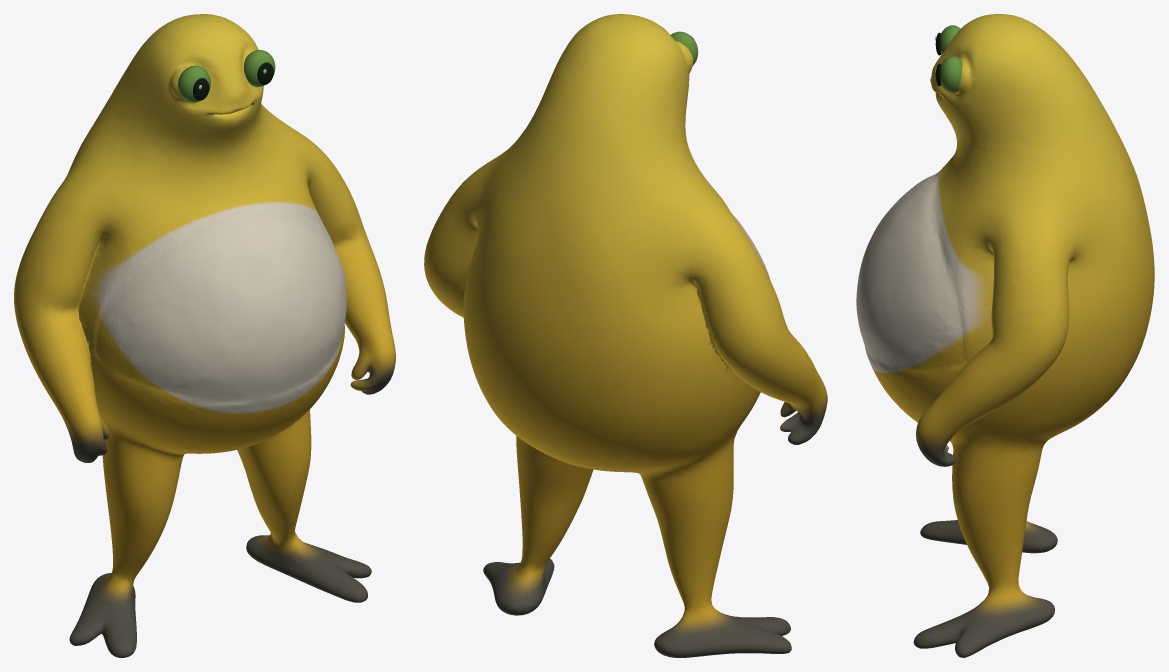
File: naiwa-h25-refined.glb
3 renders of one model, left to right at view 1: azimuth 30°, elevation 25°; view 2: azimuth 150°, elevation 25°; view 3: azimuth 270°, elevation 25°, orthographic. The views are drawn at different scales.
Parts seen in each view (by area): view 1: Naiwa; view 2: Naiwa; view 3: Naiwa.
Boxes of the visible parts, x1,y1,x2,y2 form: Naiwa: (14, 14, 395, 657); Naiwa: (424, 14, 827, 657); Naiwa: (856, 14, 1154, 657).
Size of the model in its own units: 0.6173 by 1 by 0.474.
